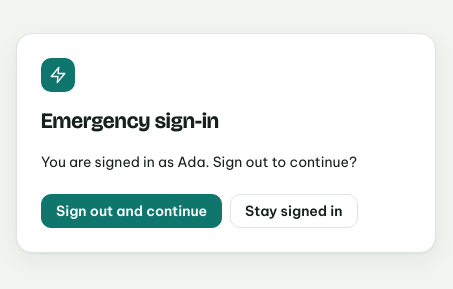
it: a browser that already has a session (R43) › asks again after a failed answer, so a retry never replaces the session without the question
Later steps or results of the test are not shown.
Click the button "Sign out and continue" at (132, 211), box 41,194 -> 222,228
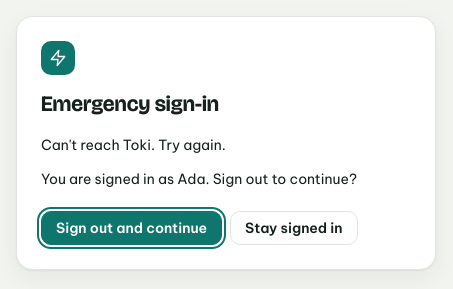
Expected: the text "You are signed in as Ada. Sign out to continue?" is shown, 41,169 -> 411,189
Expected: the message reads "Can't reach Toki. Try again.", 41,136 -> 226,154
